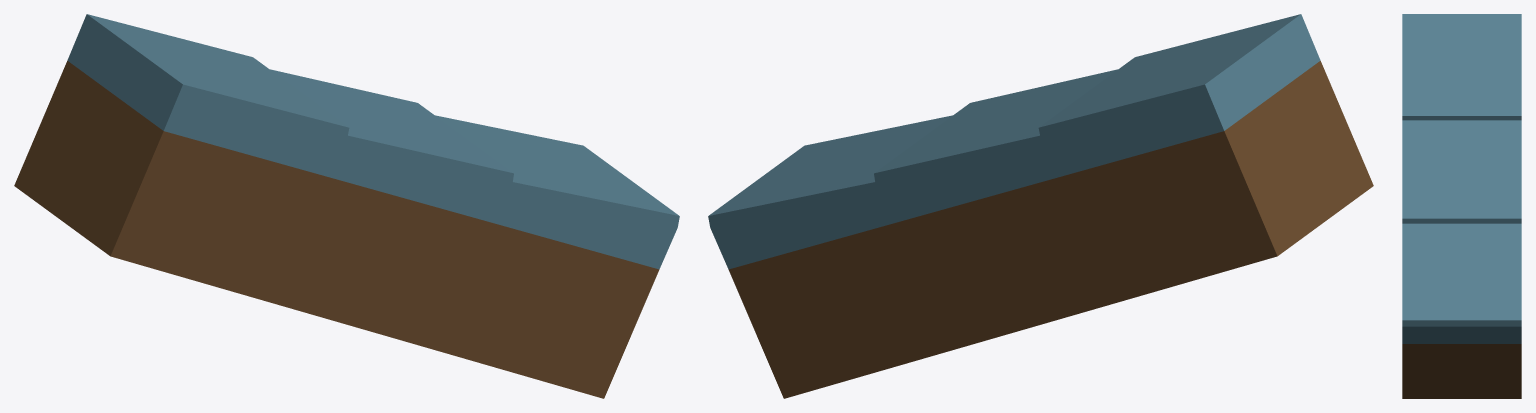
Rendered from BlueRoof_Middle_Half.fbx.
The picture shows the model from 3 angles, left to right: view 1: azimuth 30°, elevation 25°; view 2: azimuth 150°, elevation 25°; view 3: azimuth 270°, elevation 25°; orthographic projection. The views are drawn at different scales.
Visible parts, largest first — view 1: BlueRoof_Middle_Half; view 2: BlueRoof_Middle_Half; view 3: BlueRoof_Middle_Half.
Part boxes in pixels (<box>): BlueRoof_Middle_Half: <box>14,14,679,398</box>; BlueRoof_Middle_Half: <box>708,14,1373,398</box>; BlueRoof_Middle_Half: <box>1402,14,1521,398</box>.
Size of what is drawn, in the model's own units: 68.96 by 48.28 by 20.2.
